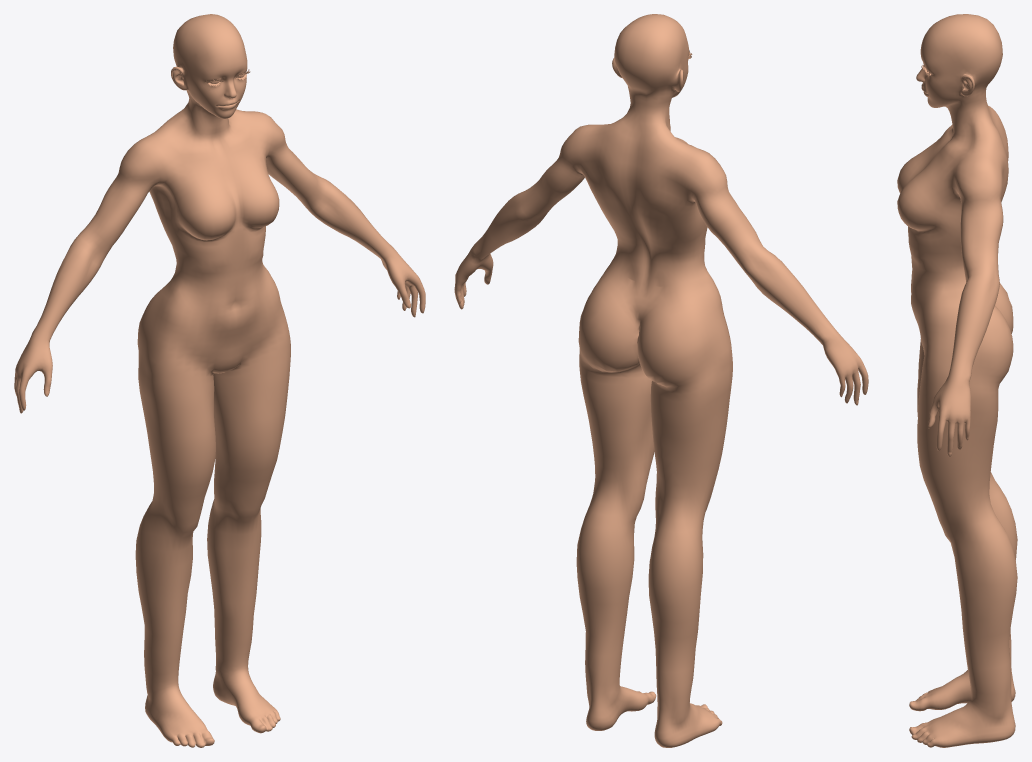
File: avatar-base-female.glb
3 renders of one model, left to right at view 1: azimuth 30°, elevation 25°; view 2: azimuth 150°, elevation 25°; view 3: azimuth 270°, elevation 25°, orthographic.
Visible parts, largest first — view 1: BaseHigh; view 2: BaseHigh; view 3: BaseHigh.
Part boxes in pixels (x1=…): BaseHigh: x1=14, y1=14, x2=425, y2=747; BaseHigh: x1=454, y1=14, x2=868, y2=747; BaseHigh: x1=897, y1=14, x2=1017, y2=747.
Size of the model in its own units: 1.05 by 1.74 by 0.2691.
